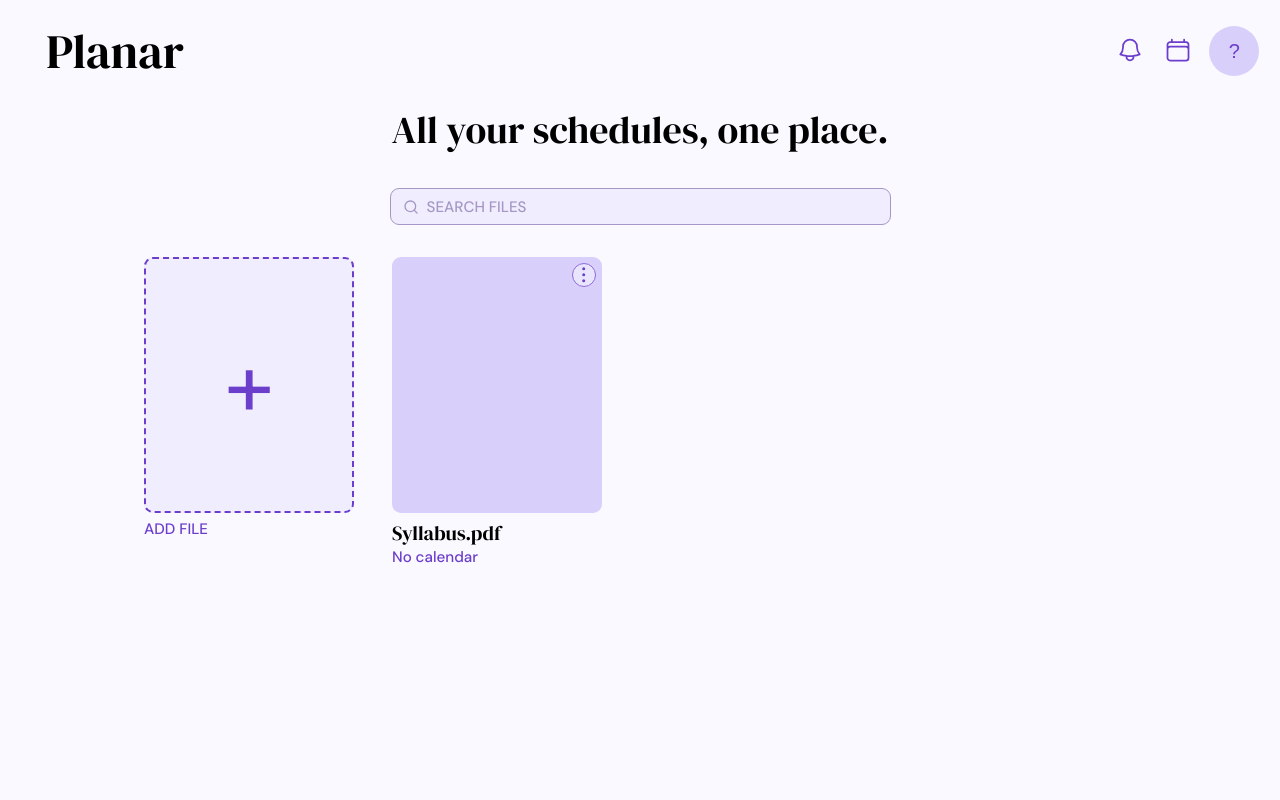
Test: <FilesLayout /> › DELETEs a file when the user confirms the delete modal
Expected: the text "Syllabus.pdf" is shown, x1=392 y1=519 x2=501 y2=547
Click the button named "File actions" at (584, 275), box x1=572 y1=263 x2=596 y2=287
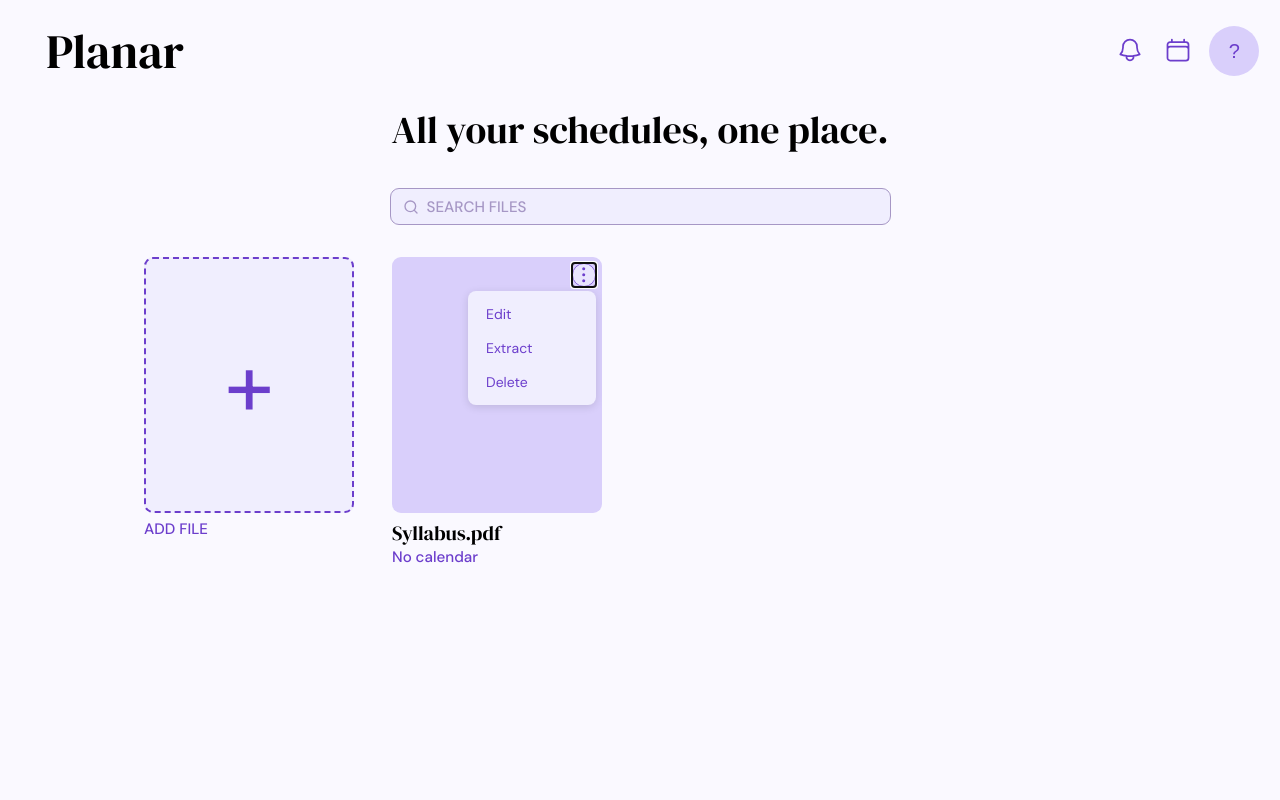
Click the button "Delete" at (507, 382), box x1=486 y1=373 x2=528 y2=391
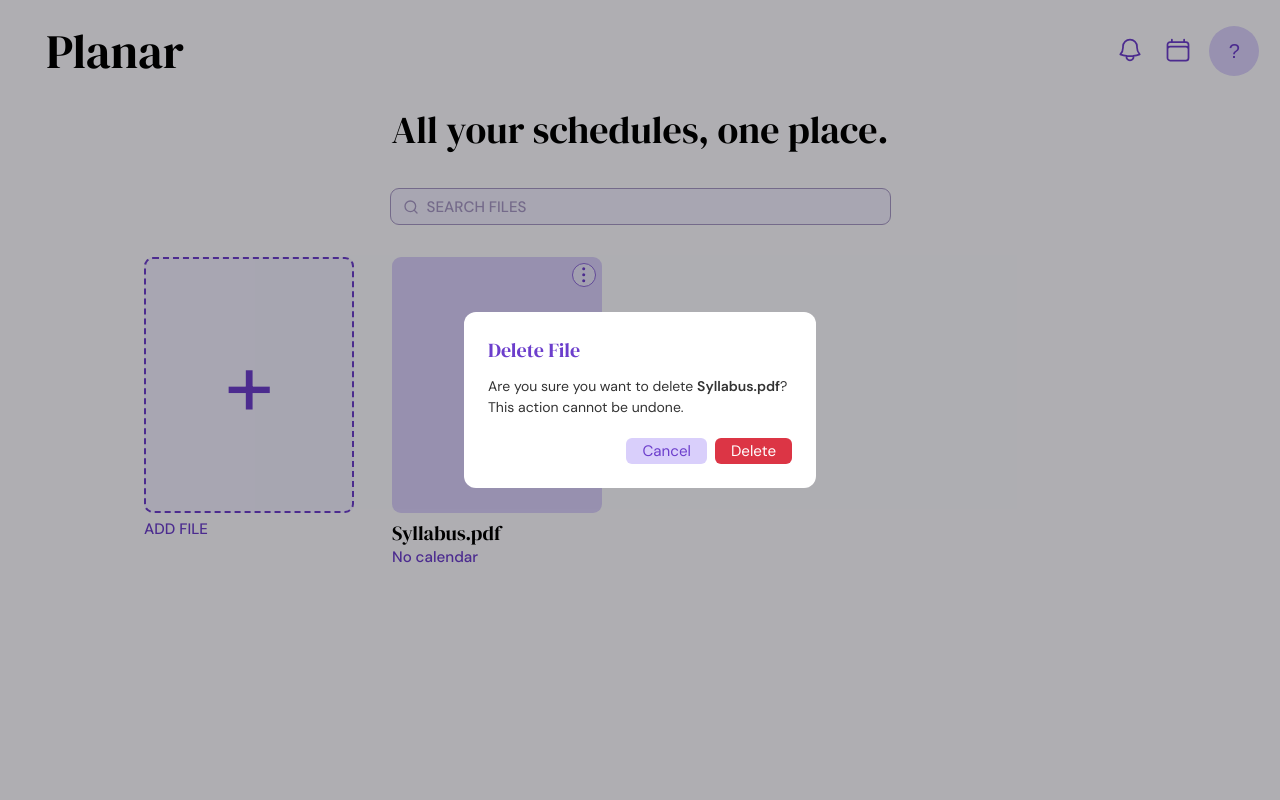
Note: Confirm in the delete modal.
Click the button "Delete" at (753, 451), box x1=715 y1=438 x2=792 y2=464
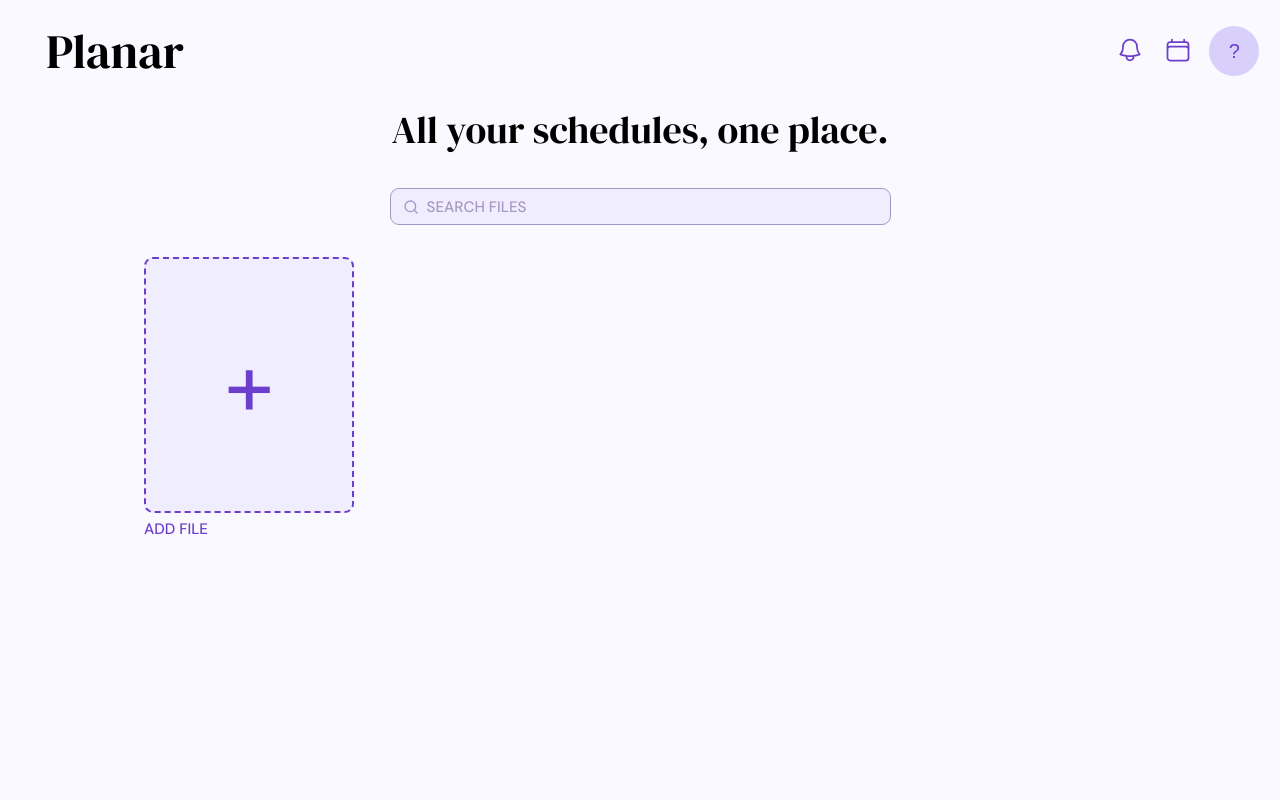
Now the text "Syllabus.pdf" is gone
